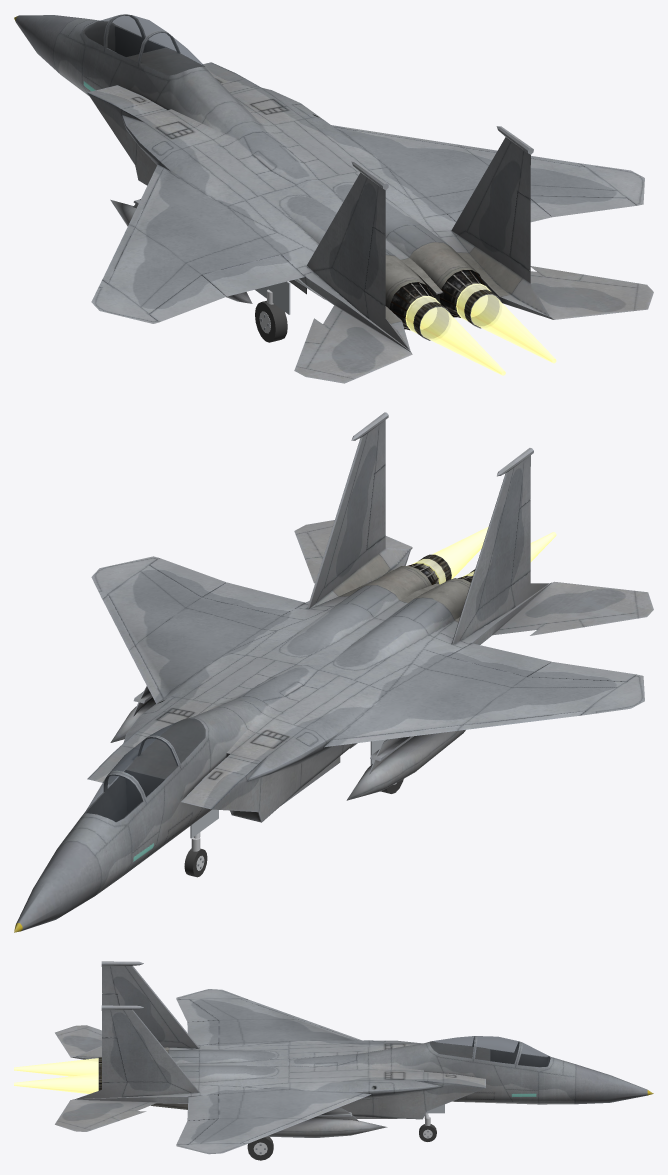
3 views of the same model, one above another, from view 1: azimuth 30°, elevation 25°; view 2: azimuth 150°, elevation 25°; view 3: azimuth 270°, elevation 25° (orthographic). The views are drawn at different scales.
Visible parts, largest first — view 1: fuselage, elevatorL, flame, elevatorR, aileronR, aileronL, rudder2, rudder, wheel1_0, pgd1_0; view 2: fuselage, elevatorL, flame, elevatorR, aileronL, aileronR, rudder, rudder2; view 3: fuselage, flame, elevatorR, elevatorL, rudder2, aileronR, aileronL, wheel2_0.
Boxes of the visible parts, <box> form: fuselage: <box>14,14,644,352</box>; elevatorL: <box>294,305,412,383</box>; flame: <box>405,283,556,375</box>; elevatorR: <box>530,266,653,319</box>; aileronR: <box>530,195,636,217</box>; aileronL: <box>149,275,225,322</box>; rudder2: <box>509,191,530,270</box>; rudder: <box>365,227,385,305</box>; wheel1_0: <box>255,300,287,342</box>; pgd1_0: <box>255,281,290,314</box>; fuselage: <box>14,412,644,932</box>; elevatorL: <box>492,581,653,635</box>; flame: <box>412,527,556,584</box>; elevatorR: <box>294,520,412,583</box>; aileronL: <box>527,662,636,681</box>; aileronR: <box>149,558,225,597</box>; rudder: <box>511,500,530,585</box>; rudder2: <box>366,465,385,550</box>; fuselage: <box>71,961,653,1154</box>; flame: <box>14,1058,98,1093</box>; elevatorR: <box>55,1099,157,1131</box>; elevatorL: <box>55,1025,101,1057</box>; rudder2: <box>102,1037,126,1082</box>; aileronR: <box>177,1119,217,1144</box>; aileronL: <box>177,999,218,1022</box>; wheel2_0: <box>247,1136,273,1160</box>.
Bounding box in the file's own units: 12.69 × 5.62 × 20.75.
Materials: 8 (1 with a texture image).
